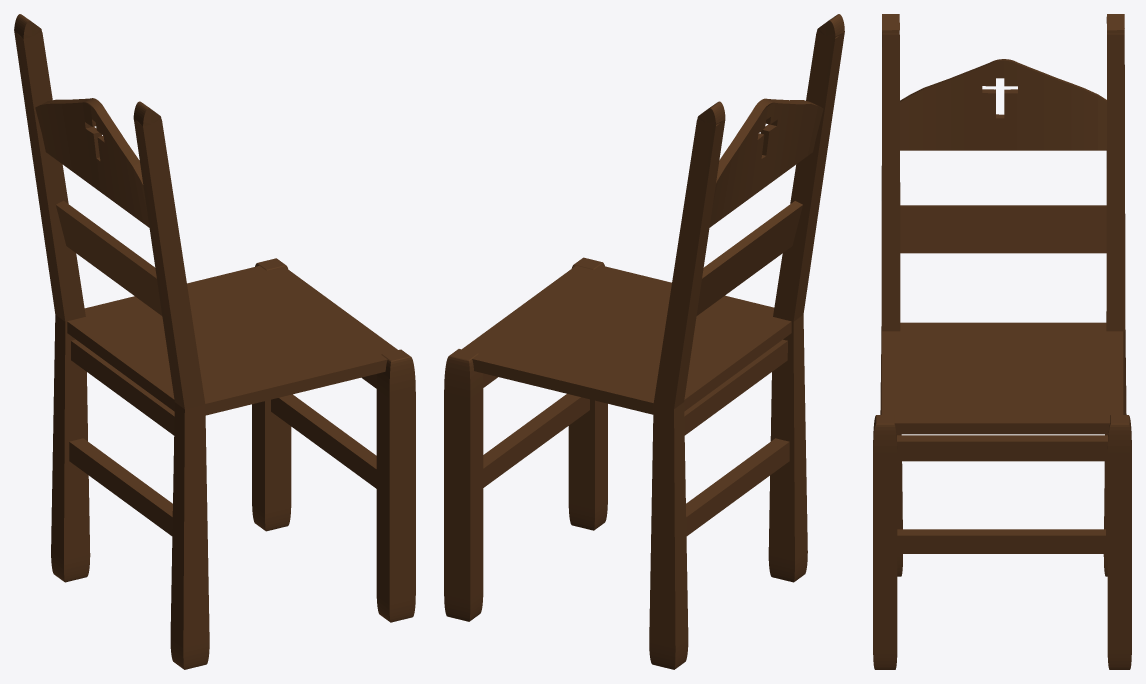
File: I_Wooden_Seats_For_Table.fbx
3 views of the same model, side by side, from view 1: azimuth 30°, elevation 25°; view 2: azimuth 150°, elevation 25°; view 3: azimuth 270°, elevation 25° (orthographic). The views are drawn at different scales.
Parts seen in each view (by area): view 1: Cube.002; view 2: Cube.002; view 3: Cube.002.
Part boxes in pixels (<box>): Cube.002: <box>14,14,415,669</box>; Cube.002: <box>444,14,844,669</box>; Cube.002: <box>873,14,1131,669</box>.
Size of the model in its own units: 62.83 by 128 by 55.81.
